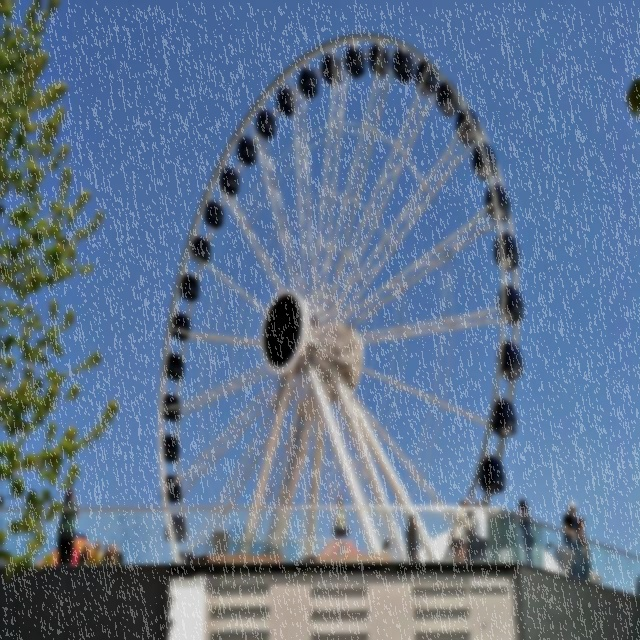pessoa: (57, 486, 80, 566), (562, 501, 582, 578), (516, 498, 536, 566), (452, 499, 472, 562), (470, 500, 488, 562), (404, 514, 420, 562), (464, 498, 476, 561), (585, 546, 602, 586), (578, 517, 588, 557), (88, 540, 104, 564), (100, 544, 114, 566), (76, 544, 90, 565), (111, 543, 124, 565), (448, 526, 457, 556), (382, 538, 392, 558)
